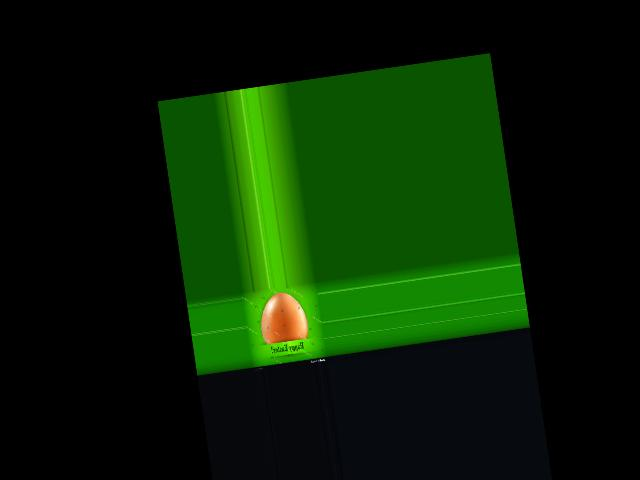egg: (256, 289, 309, 344)
